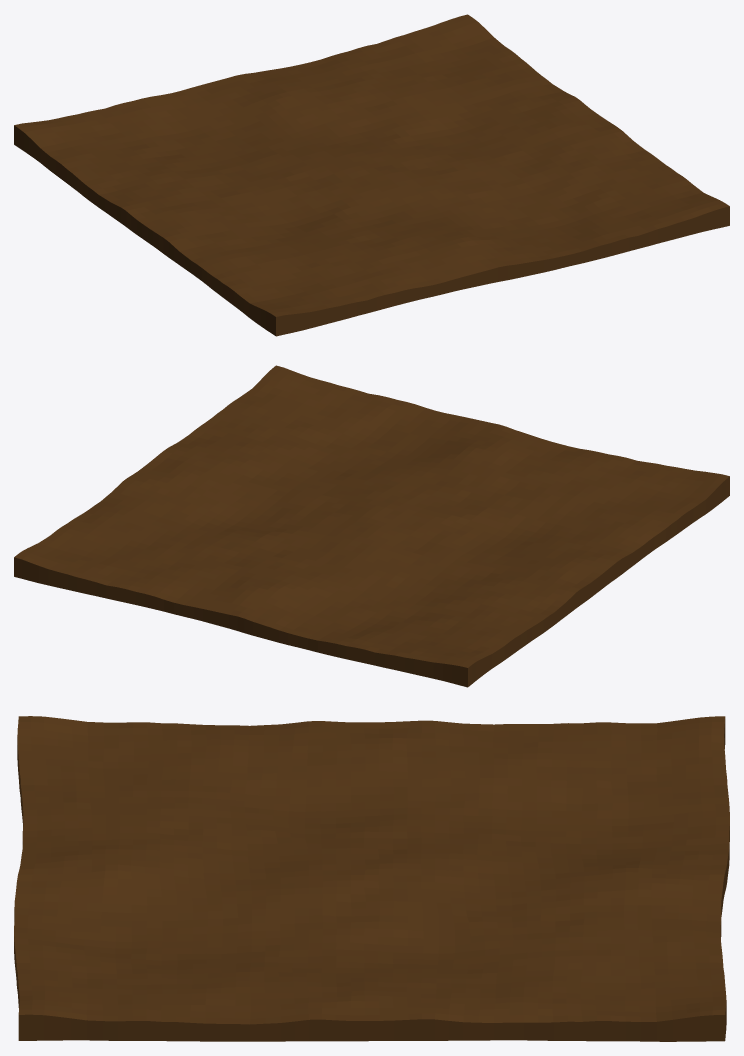
3 views of the same model, one above another, from view 1: azimuth 30°, elevation 25°; view 2: azimuth 150°, elevation 25°; view 3: azimuth 270°, elevation 25° (orthographic). The views are drawn at different scales.
Visible parts, largest first — view 1: J-2; view 2: J-2; view 3: J-2.
Boxes of the visible parts, <box> form: J-2: <box>14,14,729,336</box>; J-2: <box>14,365,729,687</box>; J-2: <box>14,716,729,1041</box>.
Bounding box in the file's own units: 7070 × 289 × 7129.
